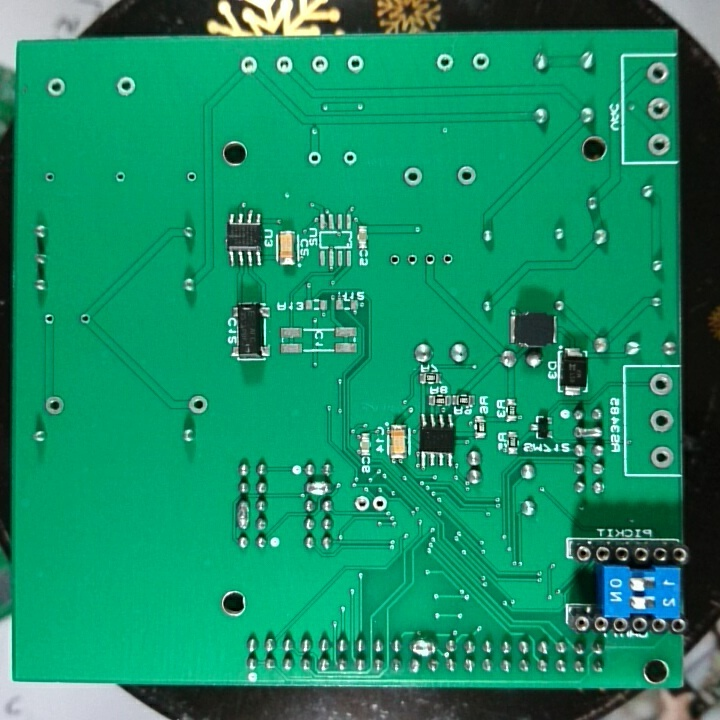F: (648, 407, 677, 437), (645, 130, 674, 158), (648, 444, 676, 471), (41, 393, 68, 420), (645, 95, 671, 122), (648, 372, 675, 398), (645, 60, 669, 88), (308, 53, 334, 78), (44, 76, 70, 101), (185, 392, 211, 417), (111, 75, 139, 98), (454, 163, 479, 188), (401, 164, 427, 188), (344, 52, 366, 77), (434, 52, 457, 75), (239, 53, 260, 76), (371, 492, 389, 517), (471, 51, 492, 72), (274, 55, 296, 75), (351, 493, 371, 514), (339, 148, 359, 167), (77, 309, 95, 329), (182, 168, 202, 185), (111, 168, 129, 186), (306, 149, 324, 166), (421, 251, 438, 269), (439, 251, 455, 270), (402, 252, 419, 269), (42, 312, 59, 329), (386, 252, 402, 270), (42, 169, 58, 185)
P: (409, 637, 437, 660), (303, 477, 334, 497), (572, 424, 605, 441), (233, 500, 251, 529)
